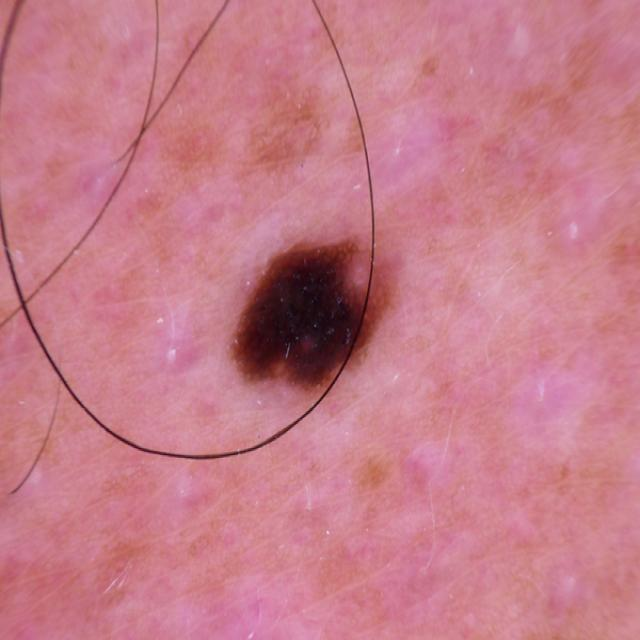NV: (228, 230, 401, 400)
